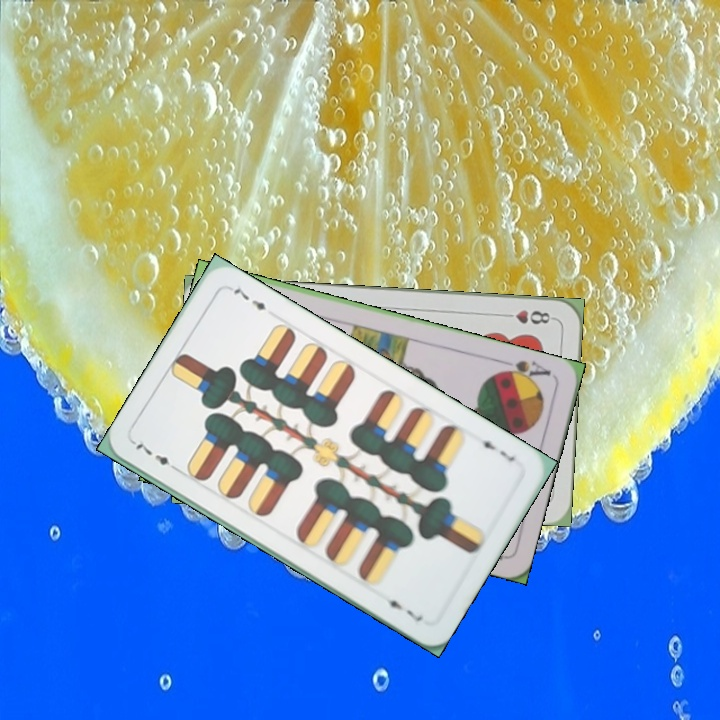E7: (129, 437, 182, 475), (473, 431, 518, 464)
H8: (498, 306, 557, 327)
SA: (494, 356, 554, 386)
